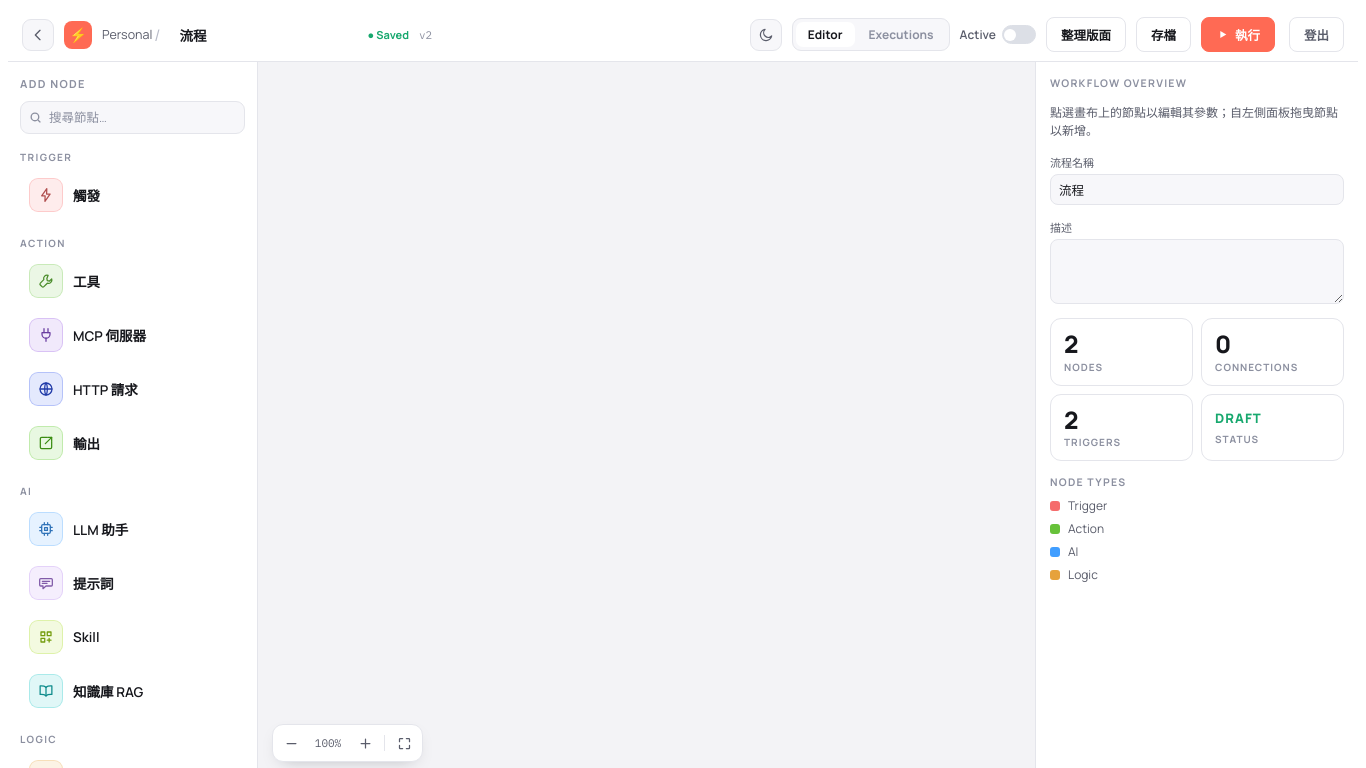
Test case: WorkflowEditorView — 指定觸發點執行 › 多觸發點時點執行先顯示選擇器且尚未開跑
The width and height of the screenshot is (1366, 768).
Click the button with test id "run-button".
click(1238, 34)  # box x1=1201 y1=17 x2=1275 y2=52
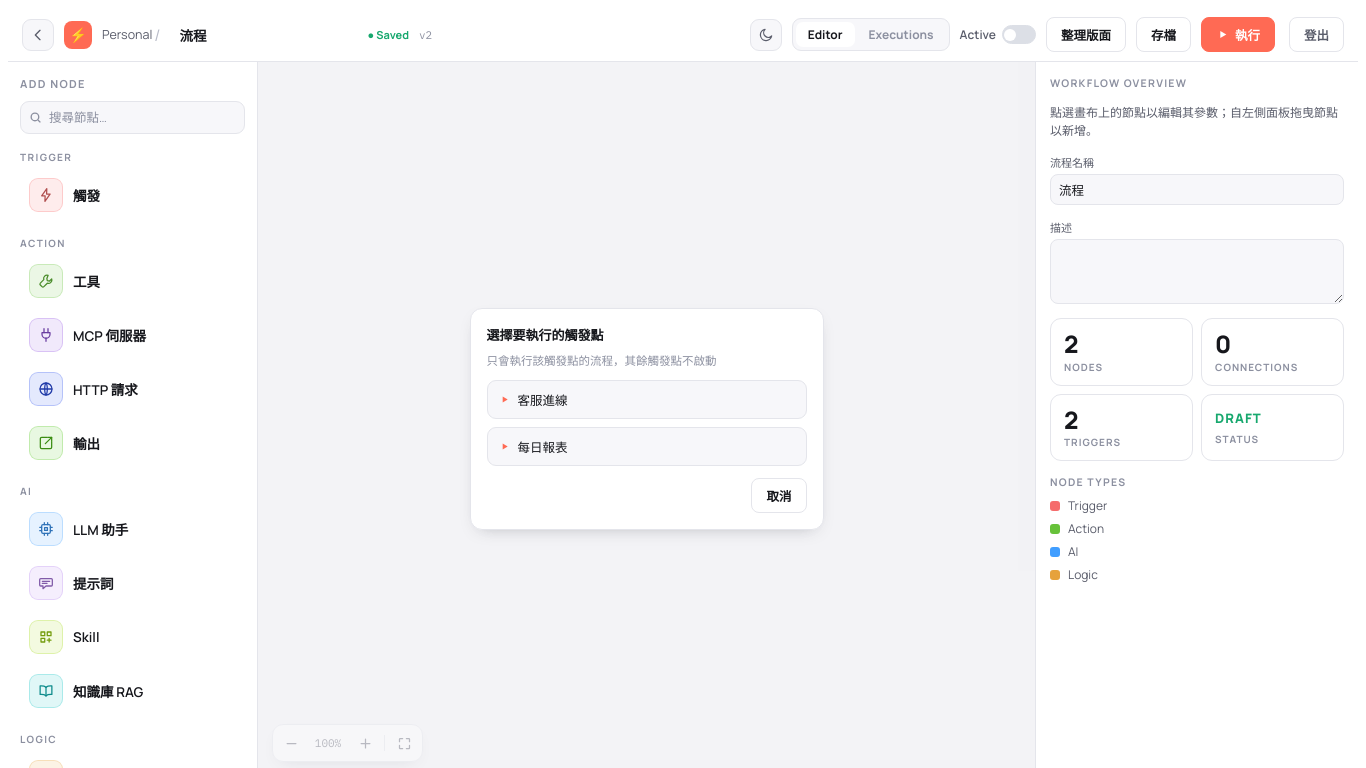
Now the element with test id "trigger-picker" is shown, box x1=470 y1=308 x2=824 y2=530
Now the button with test id "trigger-option-t1" reads "客服進線", box x1=486 y1=380 x2=806 y2=419
Now the button with test id "trigger-option-t2" reads "每日報表", box x1=486 y1=427 x2=806 y2=466
